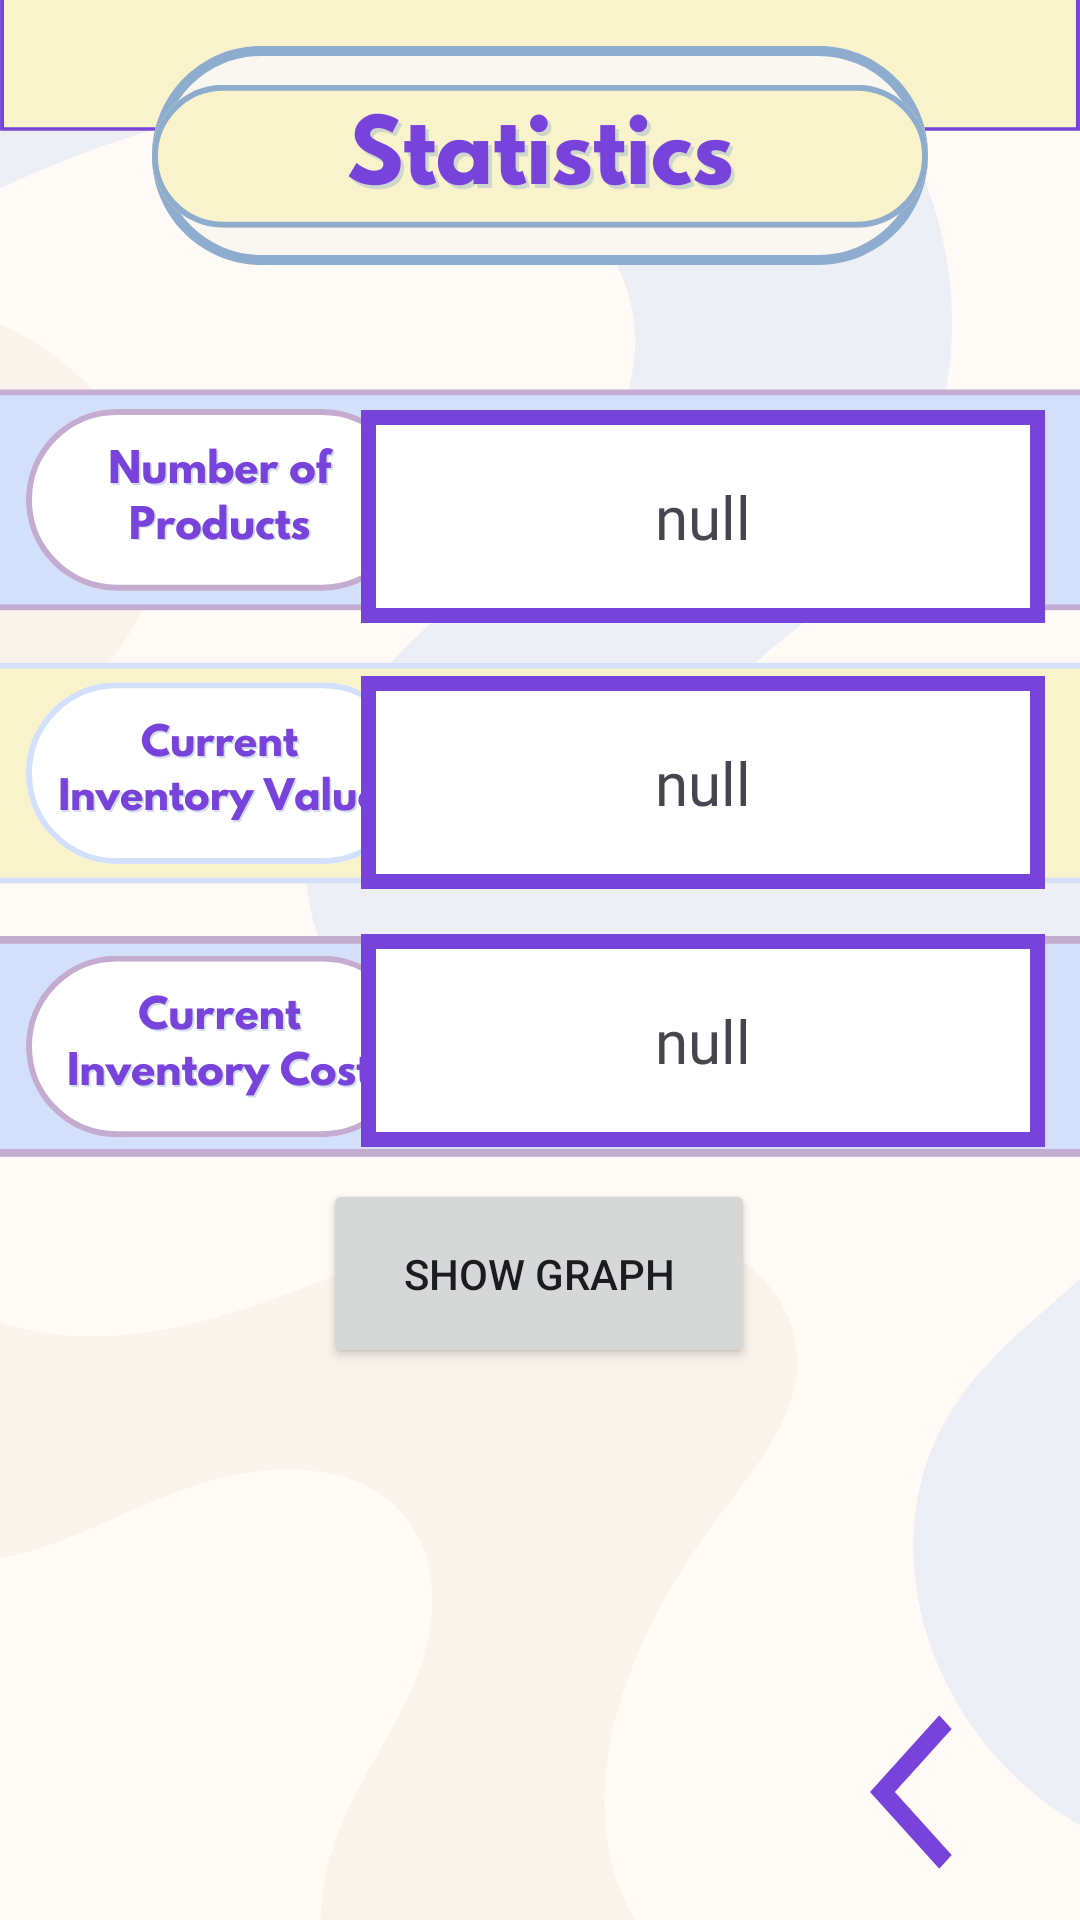

Screen size 1080×1920. Icon name, then its center in pixels as (x=x, y=y):
backarrow: (x=911, y=1792)
